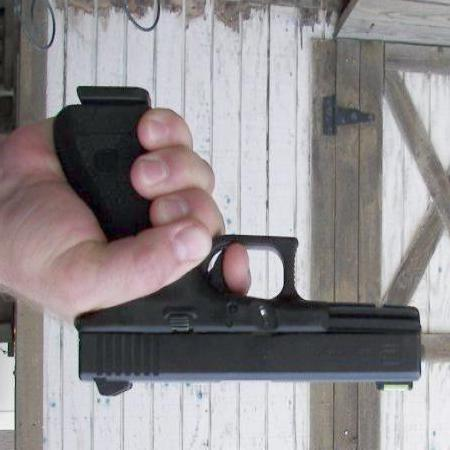Pistol: (53, 86, 427, 396)
